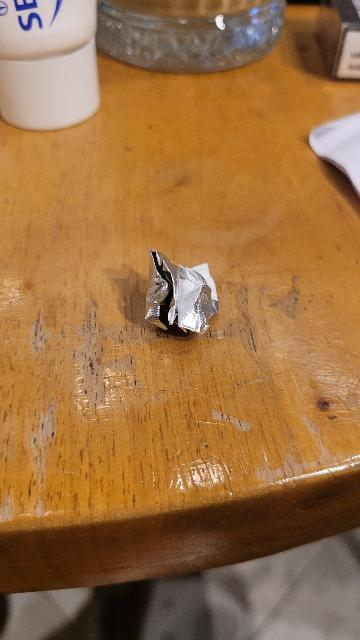Plastik: (143, 251, 219, 340)
